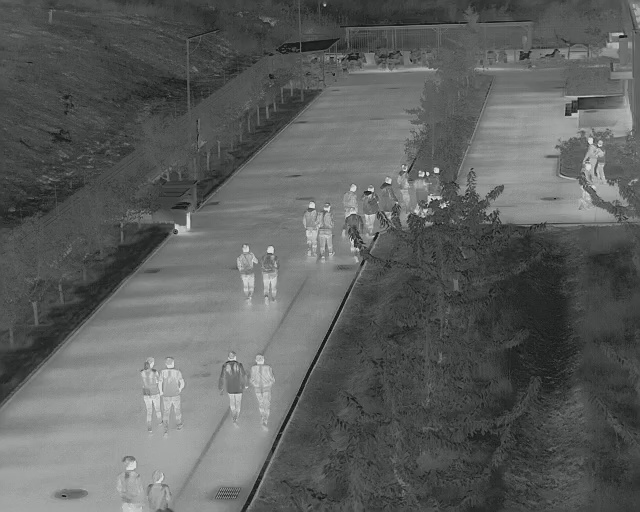person: (160, 358, 186, 435), (139, 357, 161, 434), (221, 353, 244, 426), (252, 356, 273, 431), (118, 456, 142, 511), (237, 245, 257, 304), (318, 203, 337, 263), (261, 245, 279, 307), (360, 183, 380, 237), (148, 469, 173, 512), (398, 164, 412, 216), (381, 175, 397, 218), (304, 202, 316, 258), (341, 183, 358, 218), (413, 168, 428, 205), (428, 166, 442, 201), (587, 139, 596, 184), (598, 141, 606, 183)
